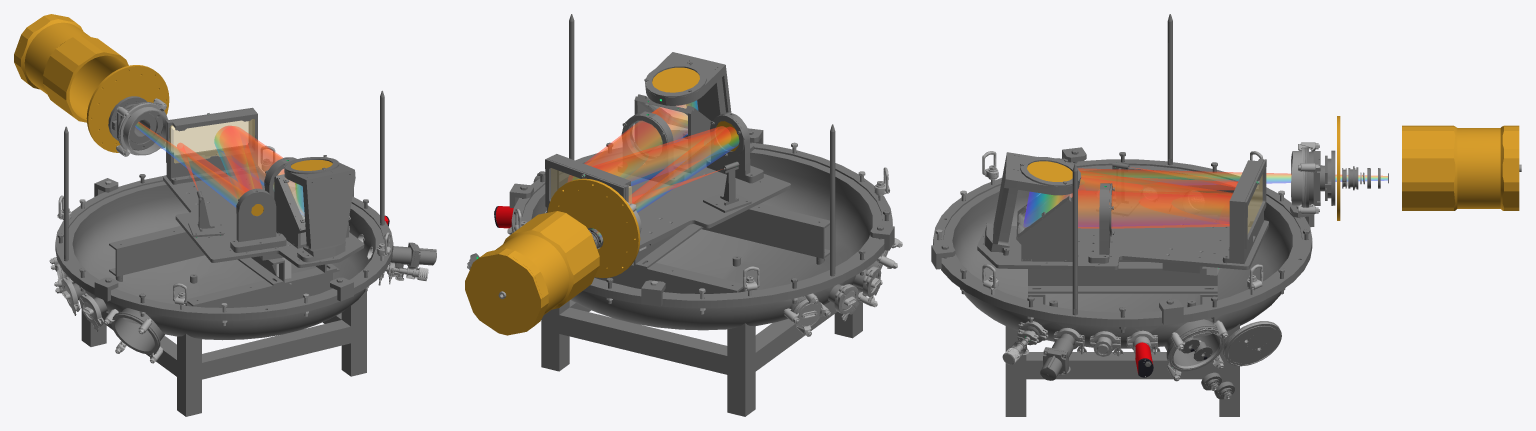
The model's file is night_AR_spectrum.glb.
The picture shows the model from 3 angles, left to right: view 1: azimuth 30°, elevation 25°; view 2: azimuth 150°, elevation 25°; view 3: azimuth 270°, elevation 25°; orthographic projection. The views are drawn at different scales.
Visible parts, largest first — view 1: opaque (×5), beam-spectrum, beam-in, glass; view 2: opaque (×4), beam-spectrum, beam-in, glass (×2); view 3: opaque (×4), beam-spectrum, beam-in, glass.
Part boxes in pixels (bbox=[...]): opaque (×5): bbox=[14, 14, 436, 416]; beam-spectrum: bbox=[135, 122, 304, 215]; beam-in: bbox=[177, 126, 283, 198]; glass: bbox=[169, 119, 254, 163]; opaque (×4): bbox=[465, 14, 902, 416]; beam-spectrum: bbox=[572, 100, 739, 237]; beam-in: bbox=[568, 107, 730, 203]; glass (×2): bbox=[551, 99, 687, 242]; opaque (×4): bbox=[931, 14, 1521, 416]; beam-spectrum: bbox=[1023, 168, 1387, 226]; beam-in: bbox=[1066, 167, 1238, 228]; glass: bbox=[1020, 170, 1348, 232].
Bounding box in the file's own units: 1.23 × 0.89 × 1.71.
17 materials, 2 textured.
